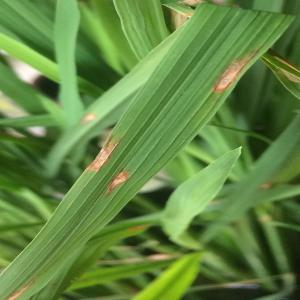Rice_Blast: (195, 39, 270, 105), (68, 120, 125, 177), (92, 164, 146, 203)
